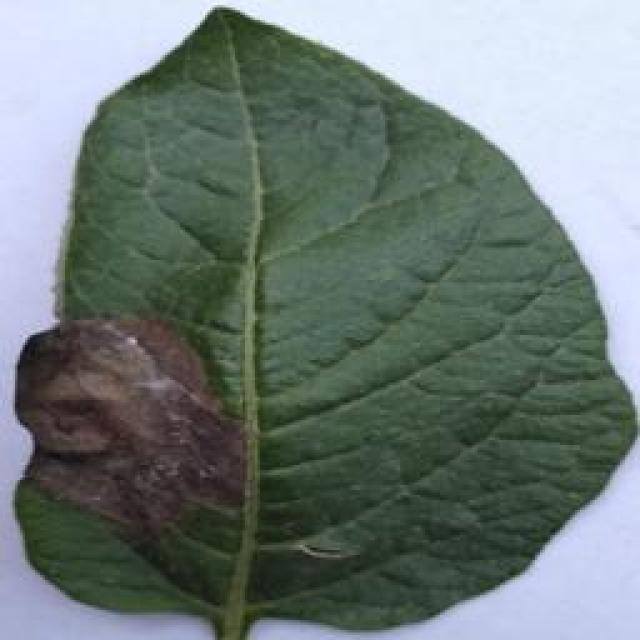Potato_Late_Blight: (8, 5, 636, 624)
